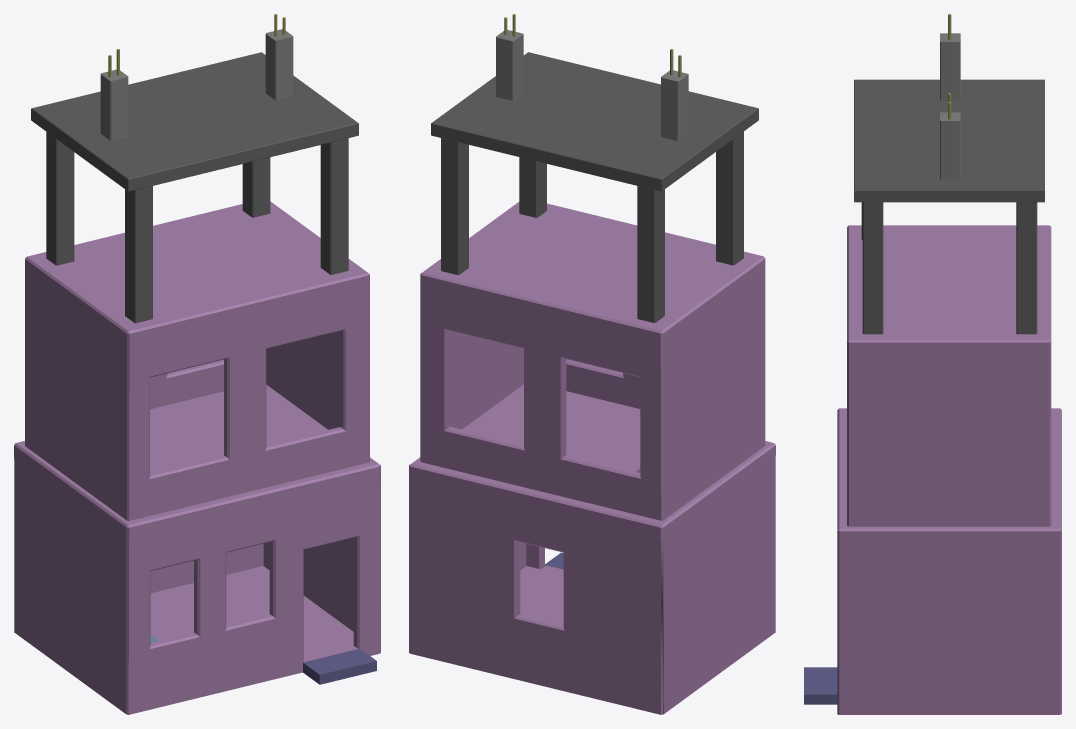
The model's file is Edificio_Const_01.fbx.
3 renders of one model, left to right at view 1: azimuth 30°, elevation 25°; view 2: azimuth 150°, elevation 25°; view 3: azimuth 270°, elevation 25°, orthographic.
Visible parts, largest first — view 1: pCube31; view 2: pCube31; view 3: pCube31.
Boxes of the visible parts, box(x1,y1,x2,y2) form: pCube31: box(14, 14, 380, 714); pCube31: box(409, 14, 775, 714); pCube31: box(804, 14, 1061, 714).
Bounding box in the file's own units: 978 × 2250 × 874.
